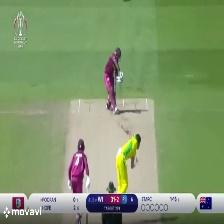batsman: (102, 46, 134, 117)
